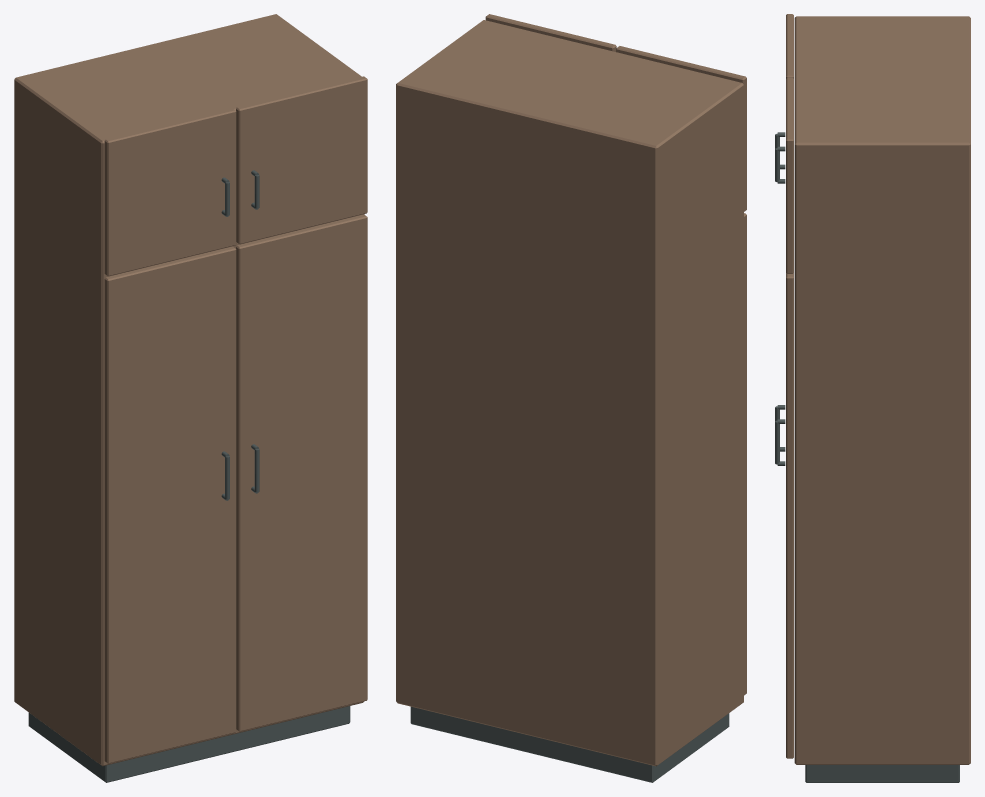
Rendered from dorm-wardrobe.glb.
3 renders of one model, left to right at view 1: azimuth 30°, elevation 25°; view 2: azimuth 150°, elevation 25°; view 3: azimuth 270°, elevation 25°, orthographic.
Parts seen in each view (by area): view 1: dorm-wardrobe; view 2: dorm-wardrobe; view 3: dorm-wardrobe.
Boxes of the visible parts, x1,y1,x2,y2 form: dorm-wardrobe: [14, 14, 367, 782]; dorm-wardrobe: [396, 14, 746, 782]; dorm-wardrobe: [775, 14, 970, 782].
Bounding box in the file's own units: 0.98 × 2.31 × 0.633.
